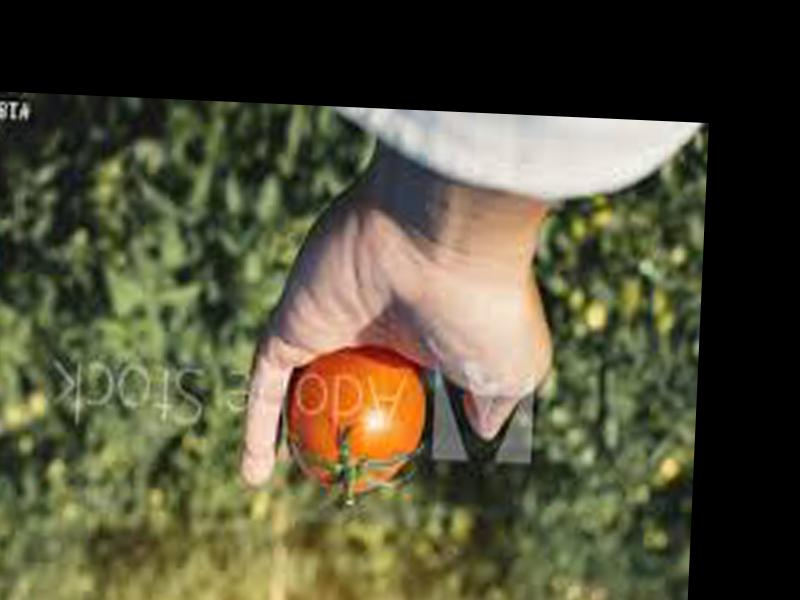Tomato: (281, 349, 424, 493)
